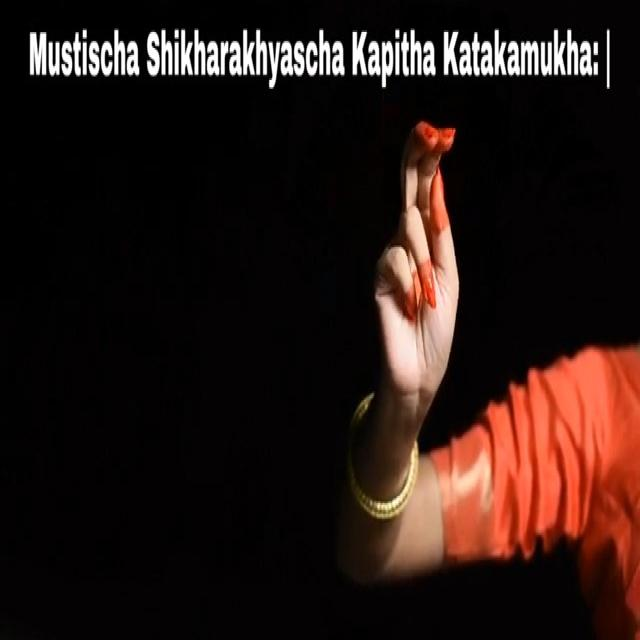Katakamukha: (363, 121, 488, 415)
bangle: (342, 432, 425, 529)
text: (11, 10, 617, 107)
